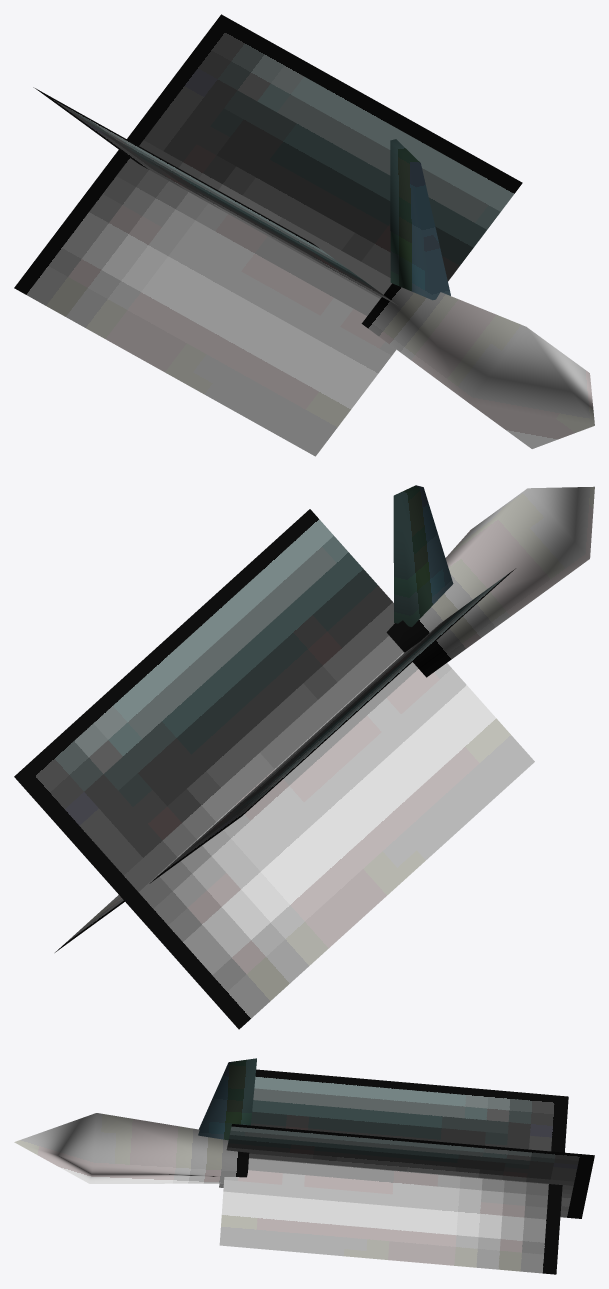
File: datan_common_missile7_bb20134e.obj
3 renders of one model, top to bottom at view 1: azimuth 30°, elevation 25°; view 2: azimuth 150°, elevation 25°; view 3: azimuth 270°, elevation 25°, orthographic. The views are drawn at different scales.
Parts seen in each view (by area): view 1: datan_common_missile7_bb20134e_mesh01, datan_common_missile7_bb20134e_mesh00; view 2: datan_common_missile7_bb20134e_mesh01, datan_common_missile7_bb20134e_mesh00; view 3: datan_common_missile7_bb20134e_mesh01, datan_common_missile7_bb20134e_mesh00.
Boxes of the visible parts, box(x1,y1,x2,y2) form: datan_common_missile7_bb20134e_mesh01: box(14, 14, 522, 456); datan_common_missile7_bb20134e_mesh00: box(361, 139, 594, 448); datan_common_missile7_bb20134e_mesh01: box(14, 509, 534, 1029); datan_common_missile7_bb20134e_mesh00: box(386, 485, 594, 677); datan_common_missile7_bb20134e_mesh01: box(219, 1069, 594, 1274); datan_common_missile7_bb20134e_mesh00: box(14, 1058, 256, 1183).
Size of the model in its own units: 0.4912 by 0.6864 by 1.88.
1 material, 1 textured.
